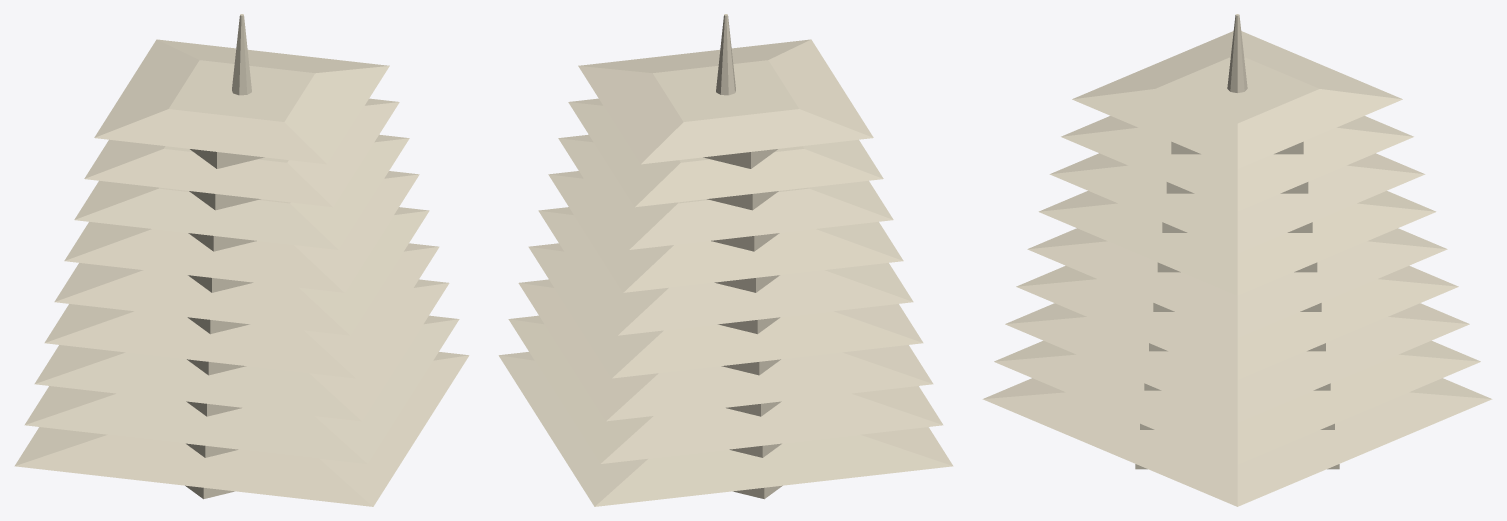
File: place-fogong-temple-pagoda.glb
3 views of the same model, side by side, from view 1: azimuth 30°, elevation 25°; view 2: azimuth 150°, elevation 25°; view 3: azimuth 270°, elevation 25° (orthographic). The views are drawn at different scales.
Visible parts, largest first — view 1: place-fogong-temple-pagoda; view 2: place-fogong-temple-pagoda; view 3: place-fogong-temple-pagoda.
Boxes of the visible parts, <box> form: place-fogong-temple-pagoda: <box>14,14,469,506</box>; place-fogong-temple-pagoda: <box>498,14,953,506</box>; place-fogong-temple-pagoda: <box>982,14,1492,506</box>.
Size of the model in its own units: 75.68 by 67.31 by 75.68.
